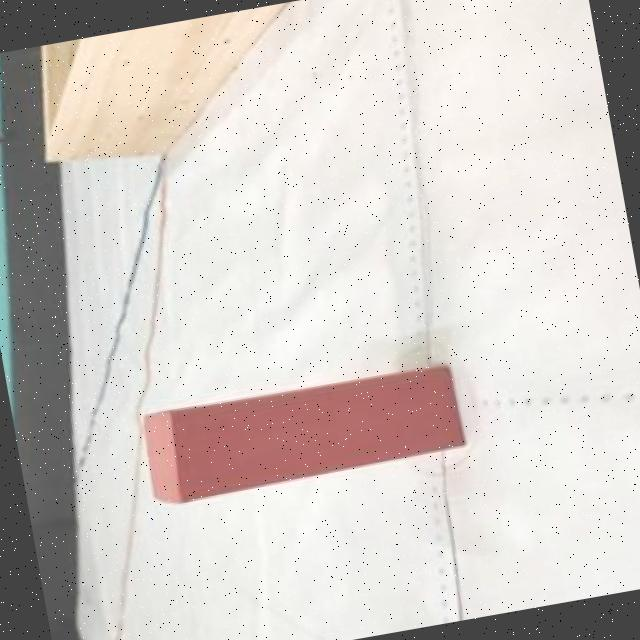redbox: (132, 356, 475, 504)
